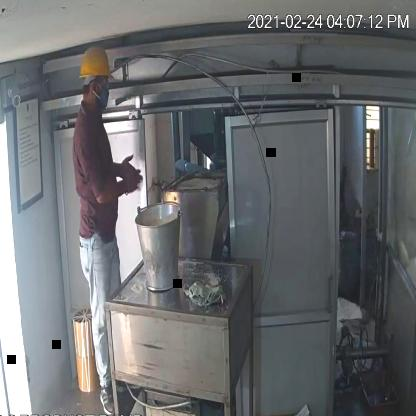helmet: (76, 36, 115, 90)
